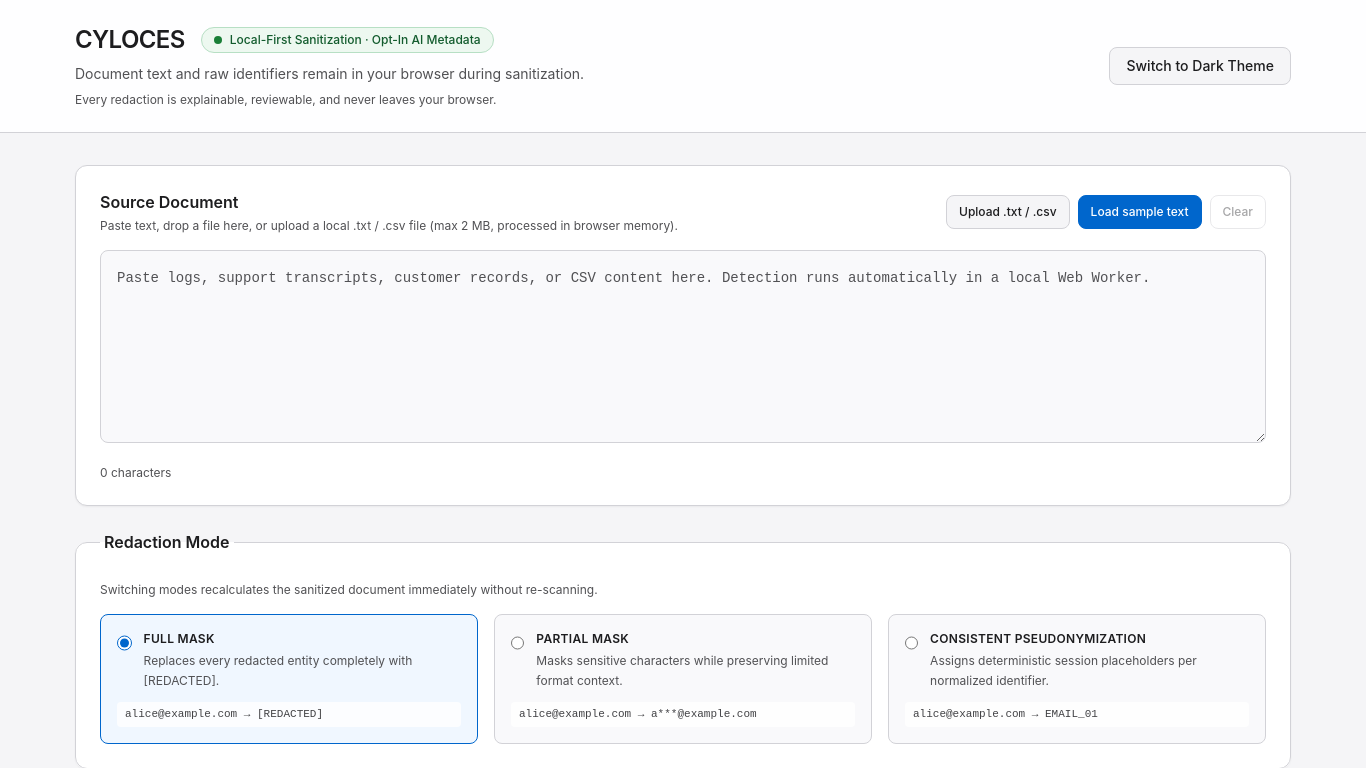
Scenario: CYLOCES Application › renders CYLOCES branding, accurate privacy disclosure, and theme switcher
This screenshot has width=1366, height=768.
Expected: the heading "CYLOCES" is shown, x1=75 y1=24 x2=185 y2=56
Expected: the text "Document text and raw identifiers remain in your browser during sanitization." is shown, x1=75 y1=64 x2=584 y2=84
Click the button "Switch to Dark Theme" at (1200,66), box x1=1110 y1=47 x2=1291 y2=85
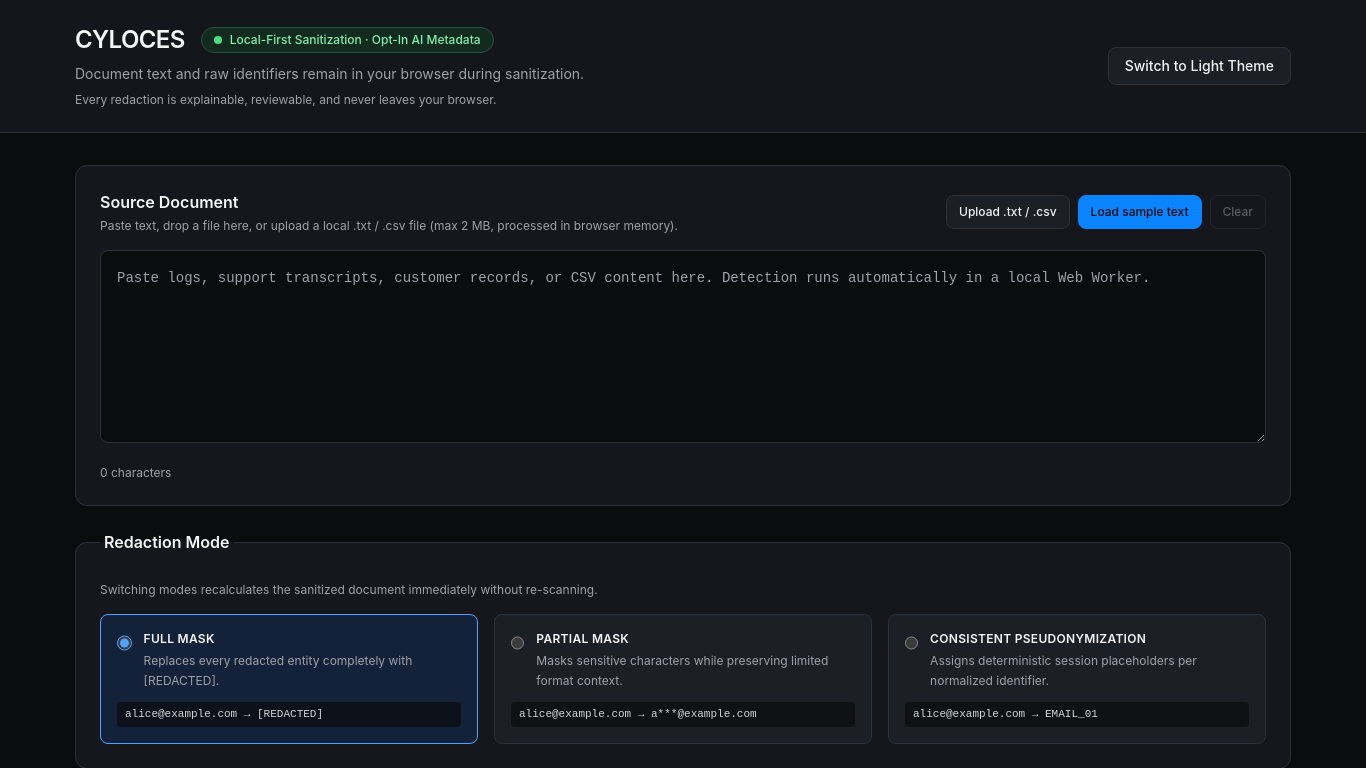
Expected: the button "Switch to Light Theme" is shown, x1=1108 y1=47 x2=1291 y2=85
